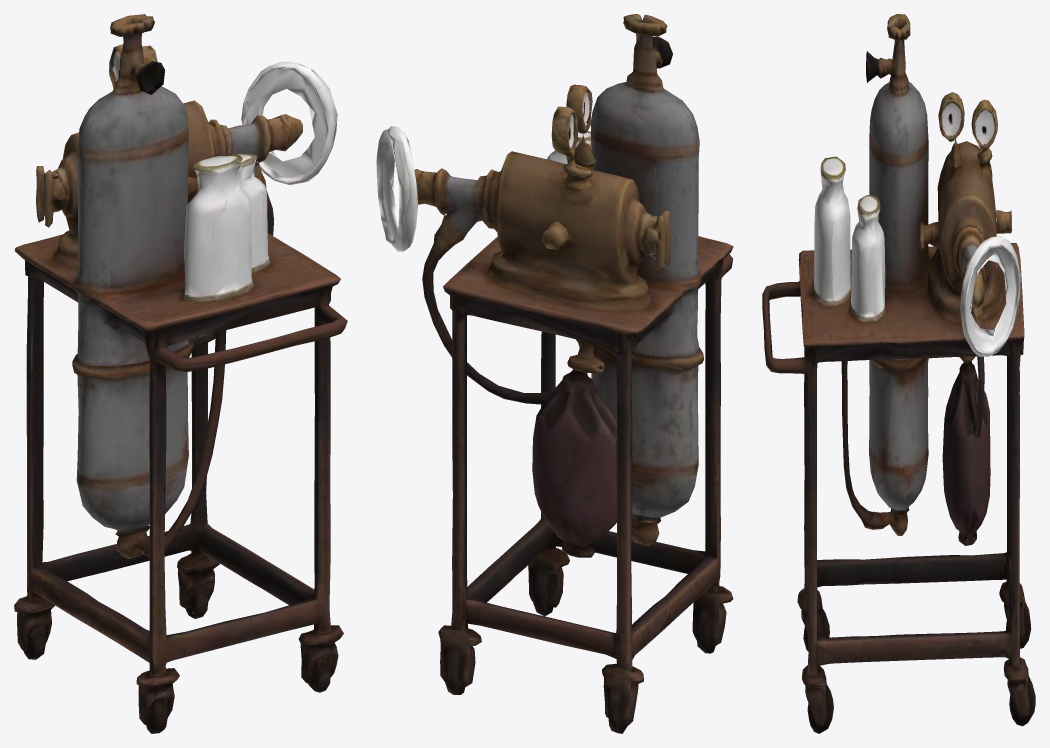
The model's file is anestesia.glb.
3 views of the same model, side by side, from view 1: azimuth 30°, elevation 25°; view 2: azimuth 150°, elevation 25°; view 3: azimuth 270°, elevation 25° (orthographic). The views are drawn at different scales.
Parts seen in each view (by area): view 1: geometry_0; view 2: geometry_0; view 3: geometry_0.
Part boxes in pixels (x1,y1,x2,y2): geometry_0: [14, 14, 347, 733]; geometry_0: [376, 14, 733, 733]; geometry_0: [762, 14, 1035, 733].
Bounding box in the file's own units: 0.6 × 1.3 × 0.5.
1 material, 1 textured.
